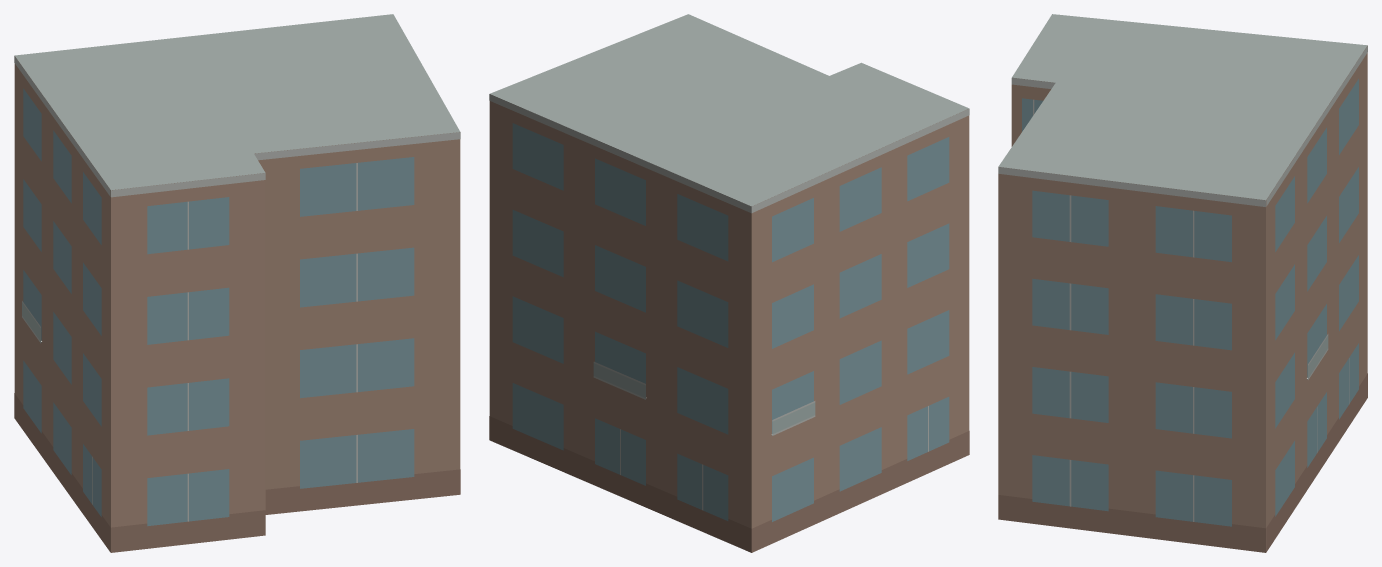
File: survey-upis-32808000.glb
The picture shows the model from 3 angles, left to right: view 1: azimuth 30°, elevation 25°; view 2: azimuth 150°, elevation 25°; view 3: azimuth 270°, elevation 25°; orthographic projection. The views are drawn at different scales.
Parts seen in each view (by area): view 1: survey-upis-32808000.tmp; view 2: survey-upis-32808000.tmp; view 3: survey-upis-32808000.tmp.
Boxes of the visible parts, x1,y1,x2,y2 form: survey-upis-32808000.tmp: (14, 14, 460, 552); survey-upis-32808000.tmp: (489, 14, 969, 552); survey-upis-32808000.tmp: (998, 14, 1367, 552).
Bounding box in the file's own units: 13.98 × 12.34 × 11.72.
